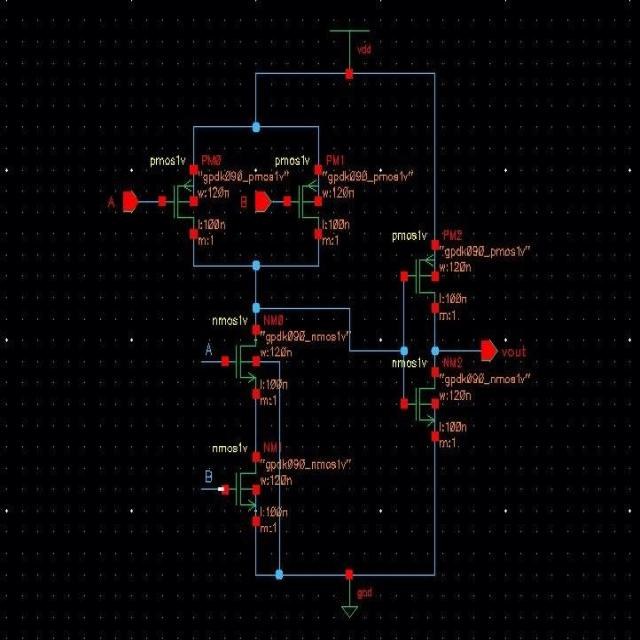nmos: (210, 442, 261, 526), (212, 316, 260, 402), (392, 358, 440, 442)
pmos: (148, 152, 199, 238), (275, 154, 324, 240), (391, 231, 440, 313)
